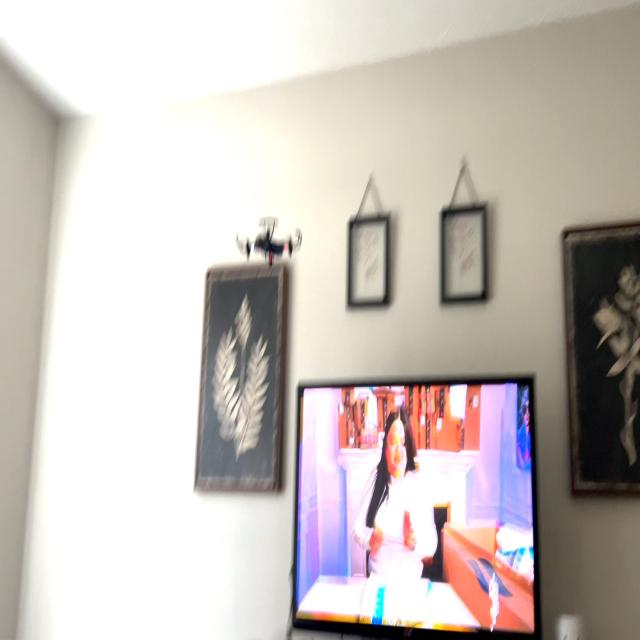drone: (229, 210, 304, 282)
